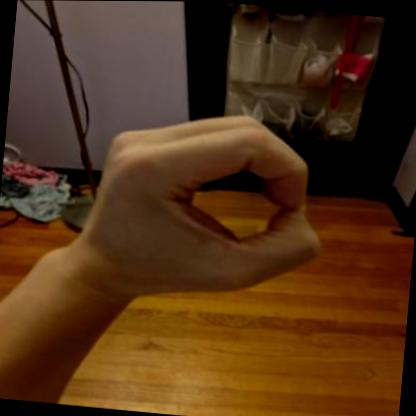O: (66, 94, 341, 316)
